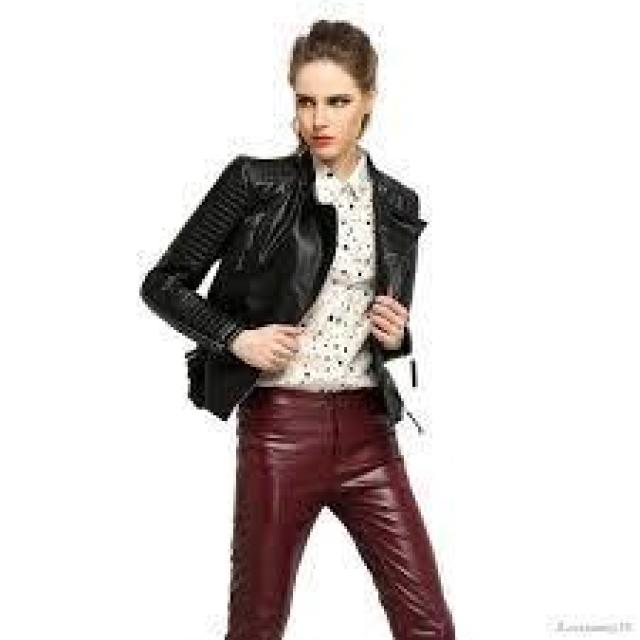jacket: (130, 144, 457, 431)
